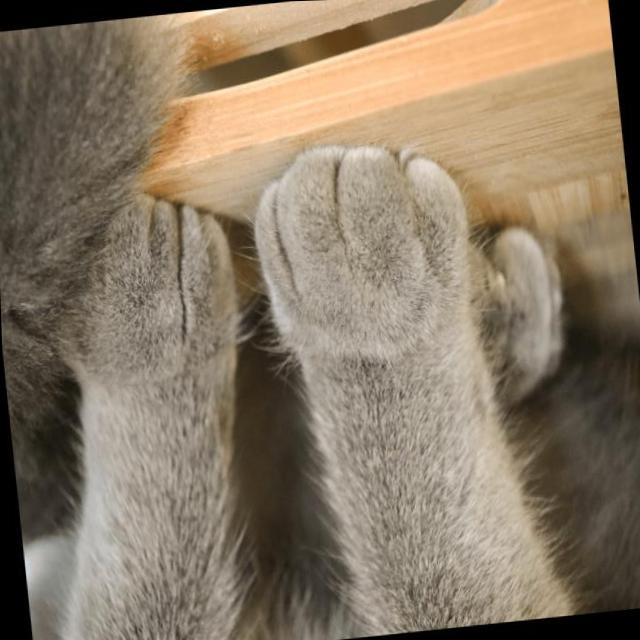Healthy skin: (75, 420, 214, 640), (378, 351, 503, 582), (298, 182, 452, 334), (0, 39, 96, 255), (91, 232, 204, 391)
